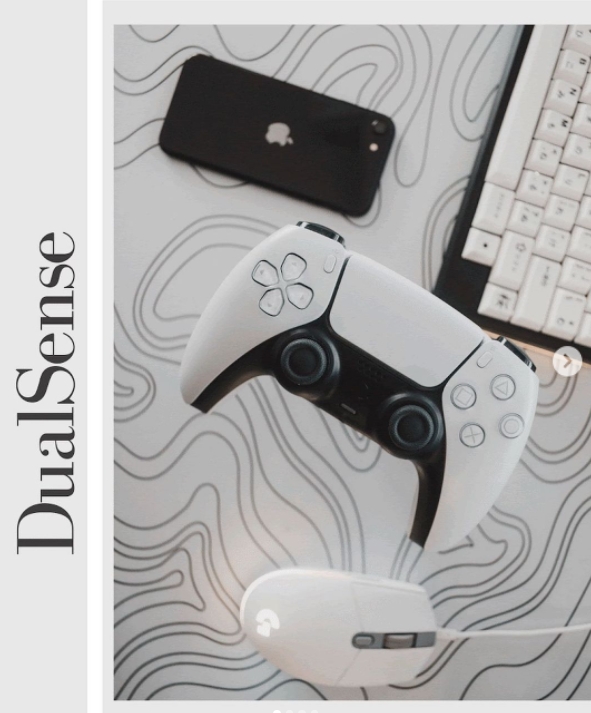gamingconsole: (175, 221, 540, 545)
